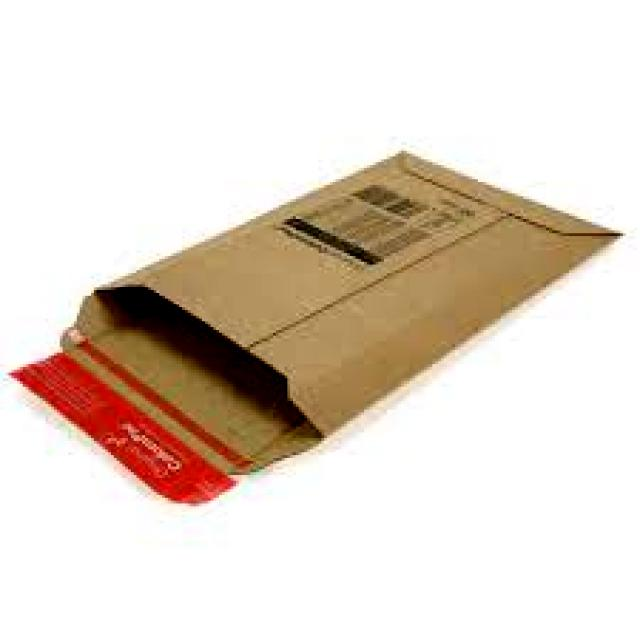Paper: (27, 145, 627, 505)
